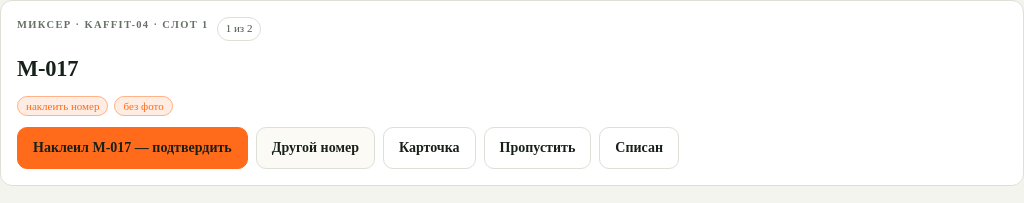
Scenario: Очередь «Наклеить номер» — по одному узлу › ошибка Core показывается словами, а не молчанием
Click the button "Наклеил M-017 — подтвердить" at coordinates (132, 148), box [17,127,248,169]
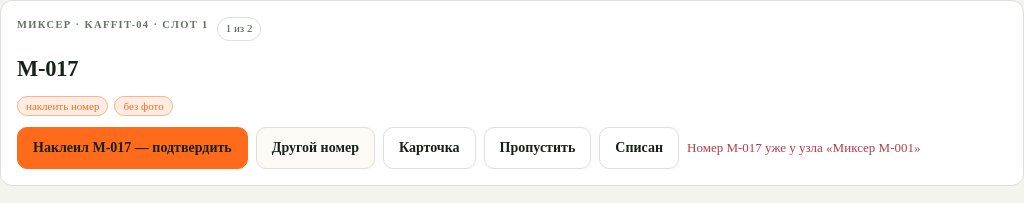
Result: the text "Номер M-017 уже у узла «Миксер M-001»" is shown at [687,138,920,157]
